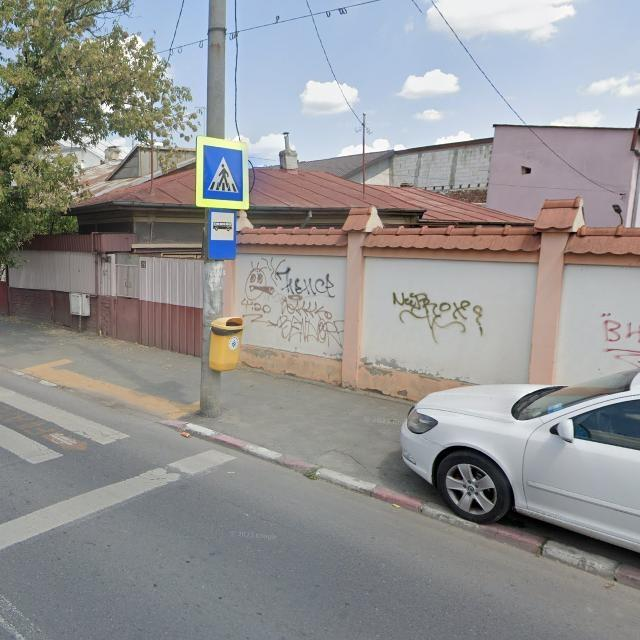info_crosswalk: (195, 137, 251, 210)
